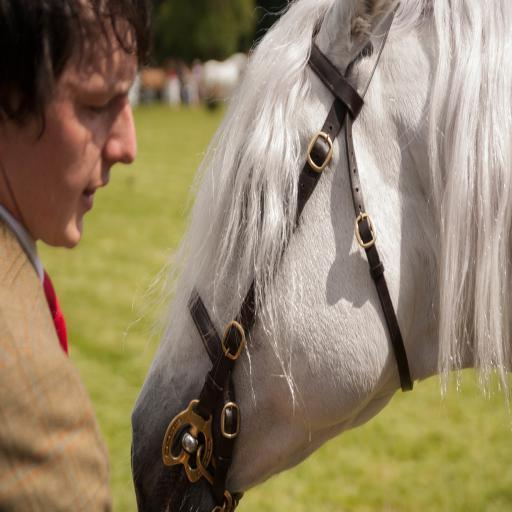horse: (116, 0, 512, 512)
